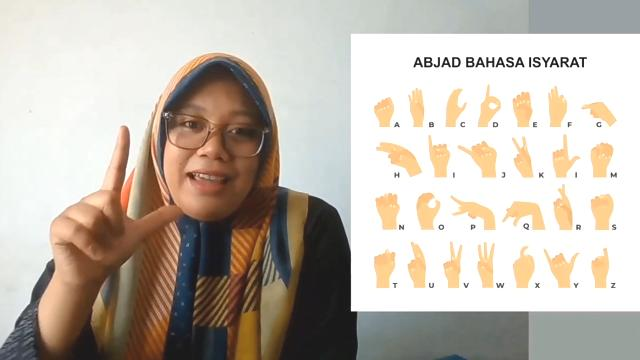L: (41, 120, 187, 280)
